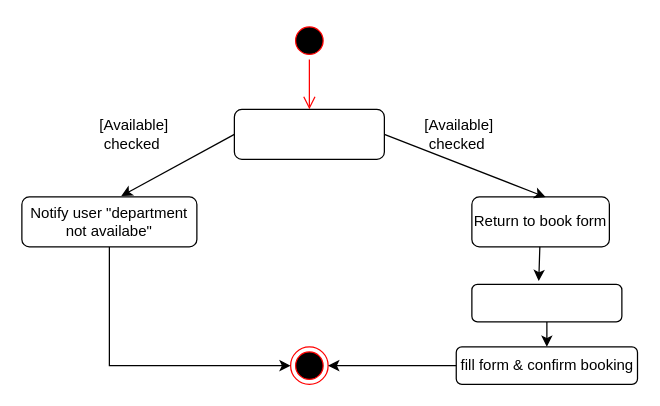
Image size: 660x406. Some labels were removed from this diagram. Each missing label, with the centre of its shape:
"Department" goes at (308,133).
"navigate to book form" goes at (546,302).
